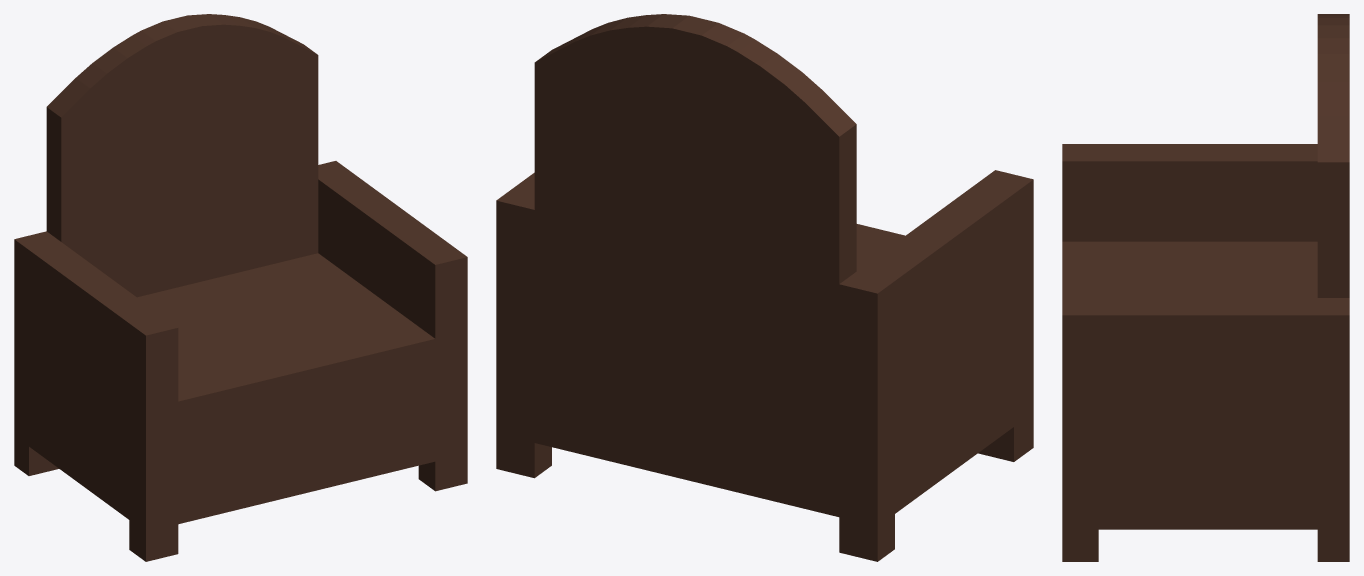
The model's file is oldarmchair.fbx.
3 renders of one model, left to right at view 1: azimuth 30°, elevation 25°; view 2: azimuth 150°, elevation 25°; view 3: azimuth 270°, elevation 25°, orthographic. The views are drawn at different scales.
Visible parts, largest first — view 1: Cube; view 2: Cube; view 3: Cube.
Part boxes in pixels (box(x1,y1,x2,y2)): Cube: box(14, 14, 467, 561); Cube: box(496, 14, 1033, 561); Cube: box(1062, 14, 1349, 561).
Size of the model in its own units: 113 by 137 by 79.89.
